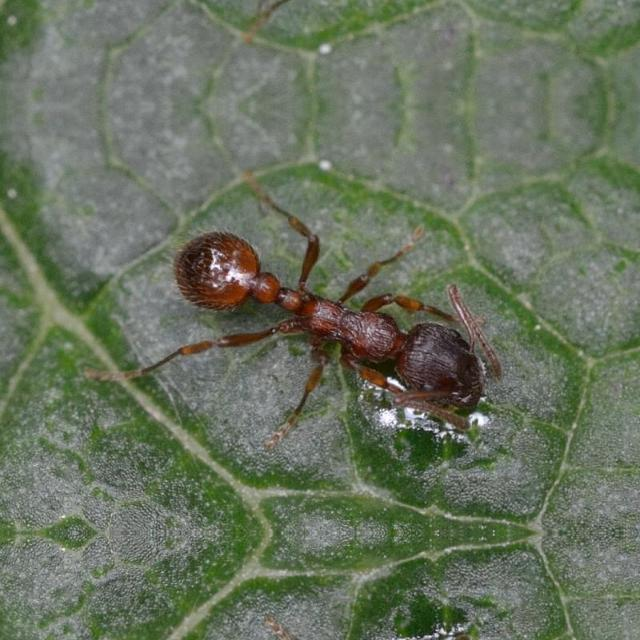Myrmica: (125, 161, 513, 469)
